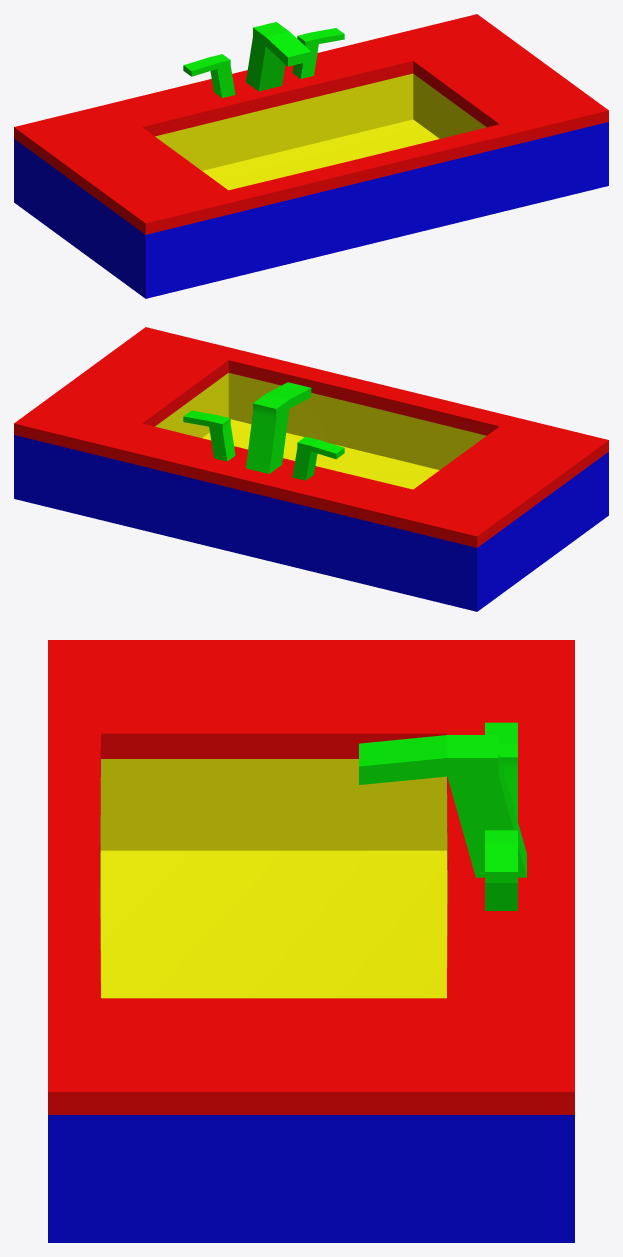
File: Sink.fbx
3 renders of one model, top to bottom at view 1: azimuth 30°, elevation 25°; view 2: azimuth 150°, elevation 25°; view 3: azimuth 270°, elevation 25°, orthographic. The views are drawn at different scales.
Parts seen in each view (by area): view 1: pasted__pCube1, pasted__pCube4, pasted__pCube5; view 2: pasted__pCube1, pasted__pCube4, pasted__pCube5; view 3: pasted__pCube1, pasted__pCube4, pasted__pCube5.
Part boxes in pixels (<box>): pasted__pCube1: <box>14,14,608,298</box>; pasted__pCube4: <box>246,22,311,91</box>; pasted__pCube5: <box>183,28,344,97</box>; pasted__pCube1: <box>14,327,608,611</box>; pasted__pCube4: <box>246,382,311,473</box>; pasted__pCube5: <box>183,410,344,480</box>; pasted__pCube1: <box>48,640,574,1242</box>; pasted__pCube4: <box>359,735,526,877</box>; pasted__pCube5: <box>485,722,517,910</box>.
Size of the model in its own units: 2.95 by 0.8229 by 1.45.
